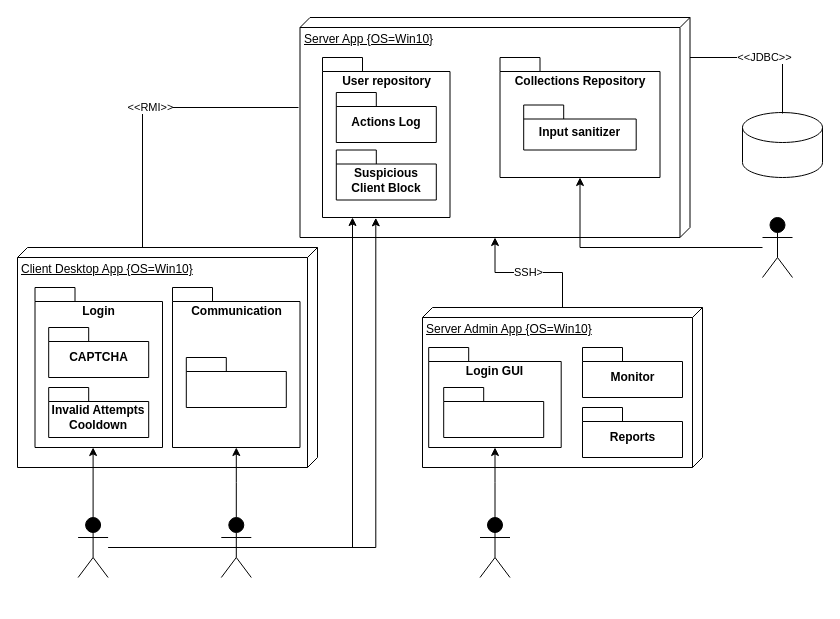
The diagram is 840 pixels wide and 619 high, and some of its shapes have lost their labels. The centre of each missing label's shape, as x and y in pixels:
"Data Hashing And Encryption" belongs at [235,382].
"DoS attacker" belongs at [92,547].
"Eavesdropper" belongs at [235,547].
"Impersonator" belongs at [494,547].
"SQL attacker" belongs at [777,247].
"SQL Database" belongs at [782,145].
"Two-factor auth" belongs at [493,412].
